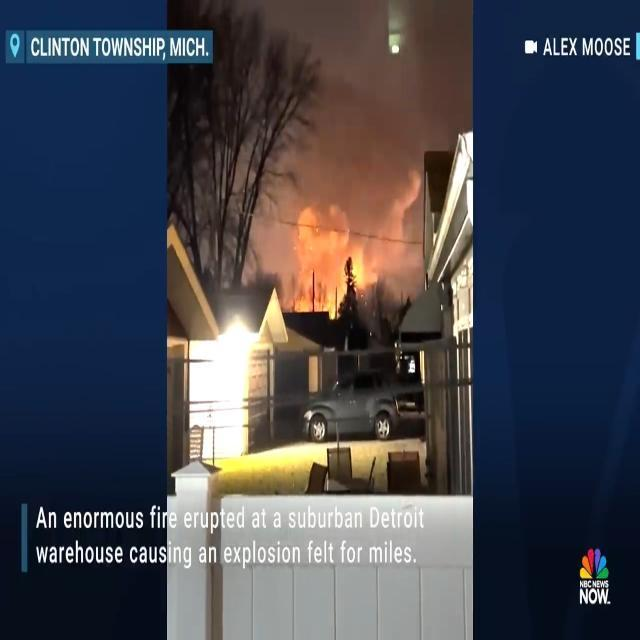fire: (310, 284, 350, 318), (315, 284, 346, 317), (350, 248, 368, 284)
